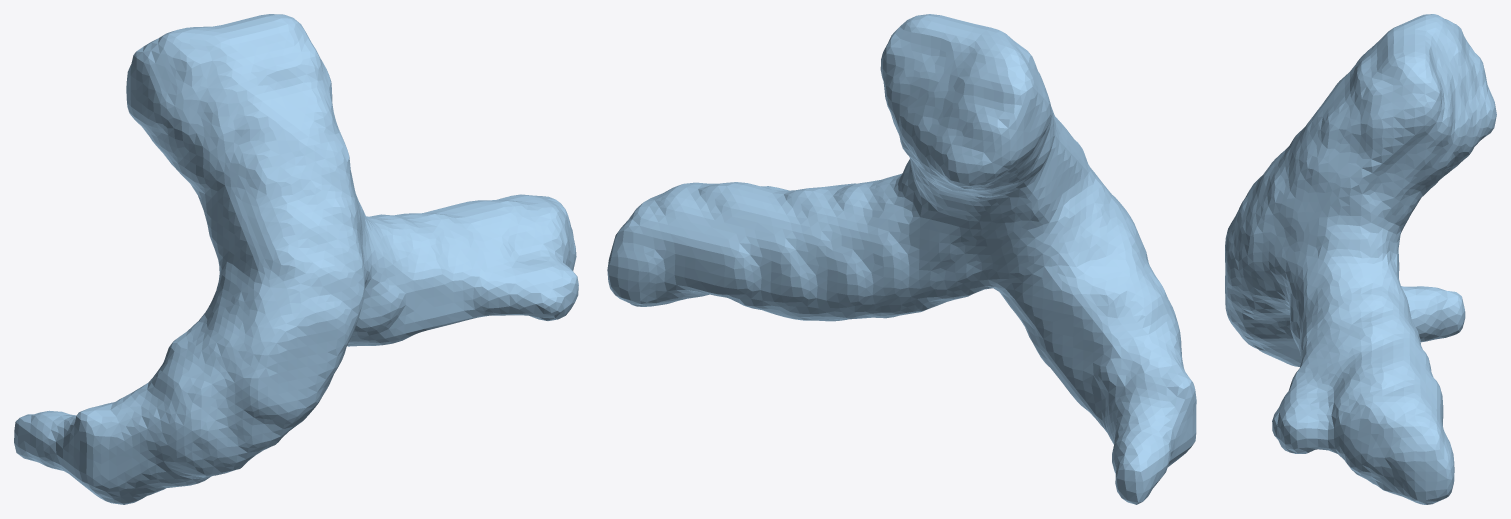
3 renders of one model, left to right at view 1: azimuth 30°, elevation 25°; view 2: azimuth 150°, elevation 25°; view 3: azimuth 270°, elevation 25°, orthographic. The views are drawn at different scales.
Visible parts, largest first — view 1: world; view 2: world; view 3: world.
Part boxes in pixels (x1,y1,x2,y2): world: (14, 14, 578, 504); world: (607, 14, 1196, 504); world: (1225, 14, 1496, 504).
Size of the model in its own units: 0.8487 by 0.6299 by 0.3939.
